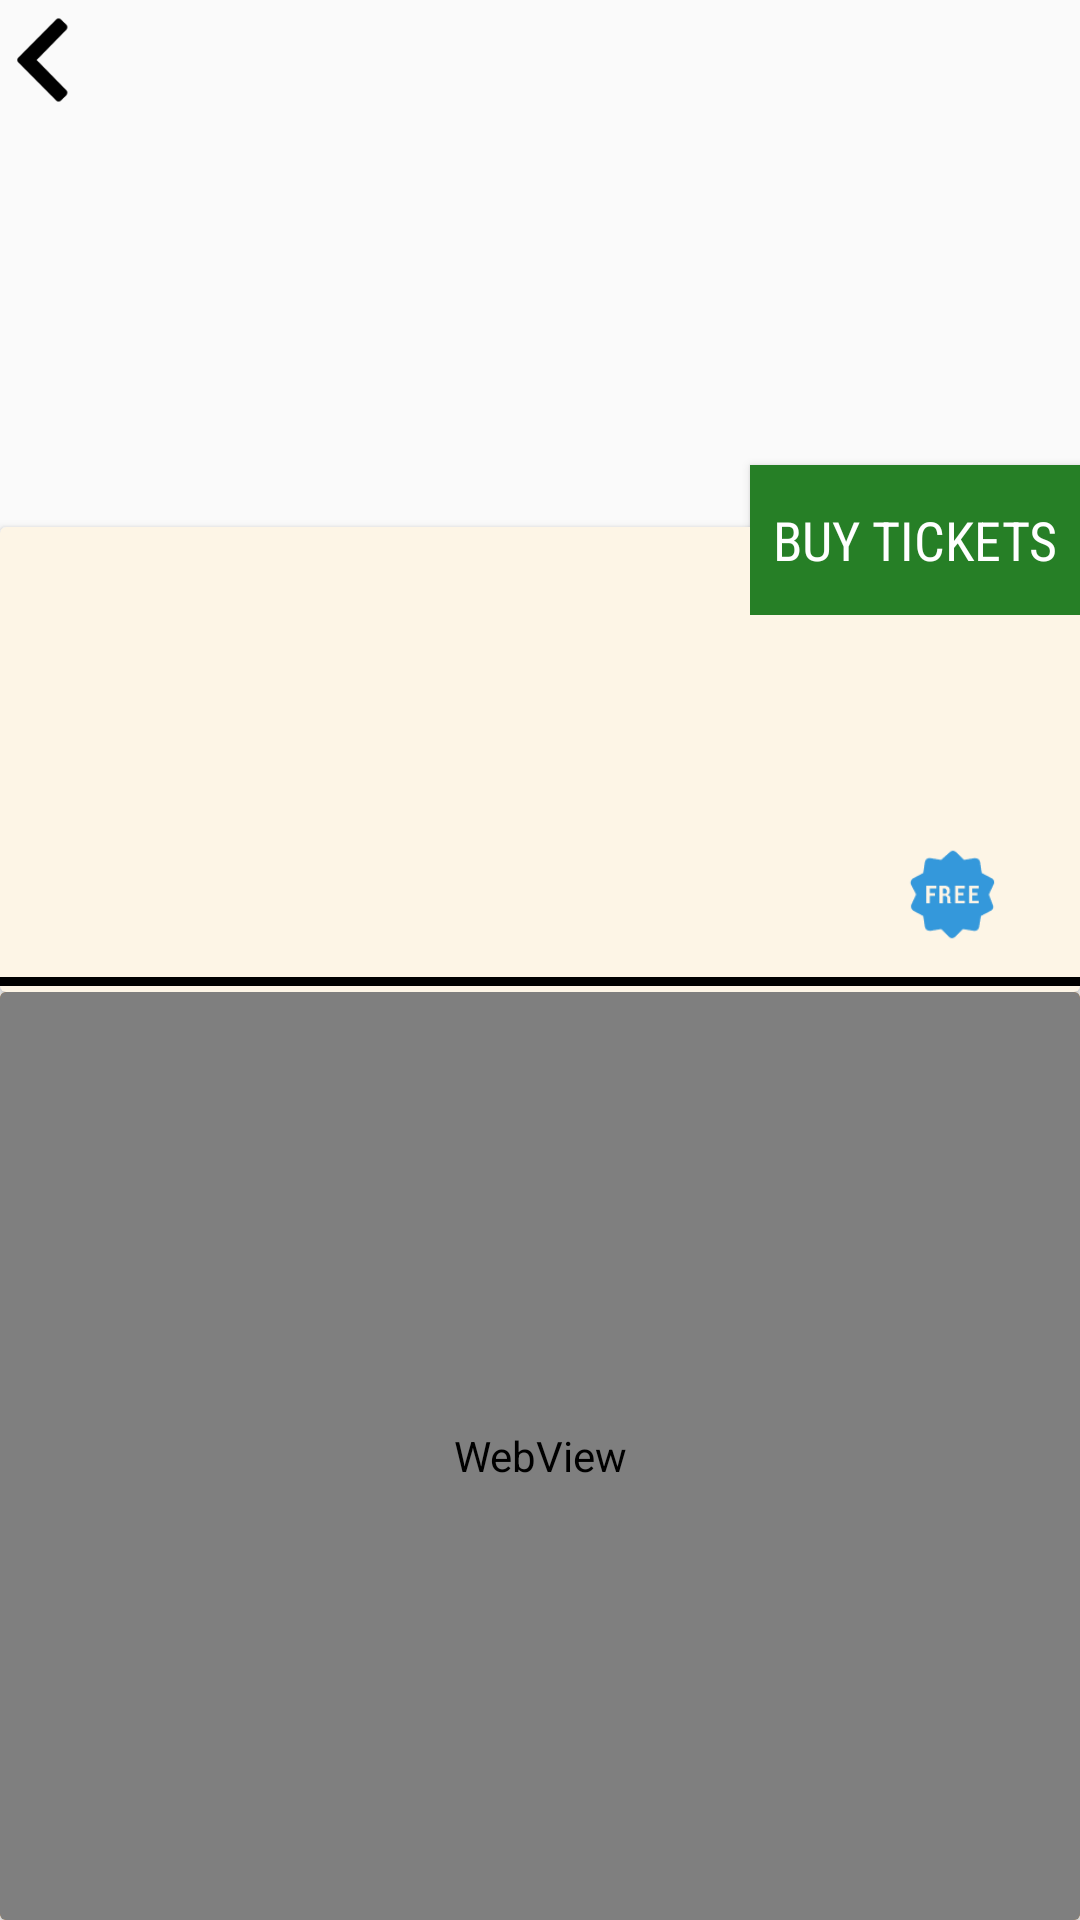

Where icons sit on this 1080w x 1920h app screen, as (x1, y1, x2, y2):
back: (17, 18, 68, 102)
